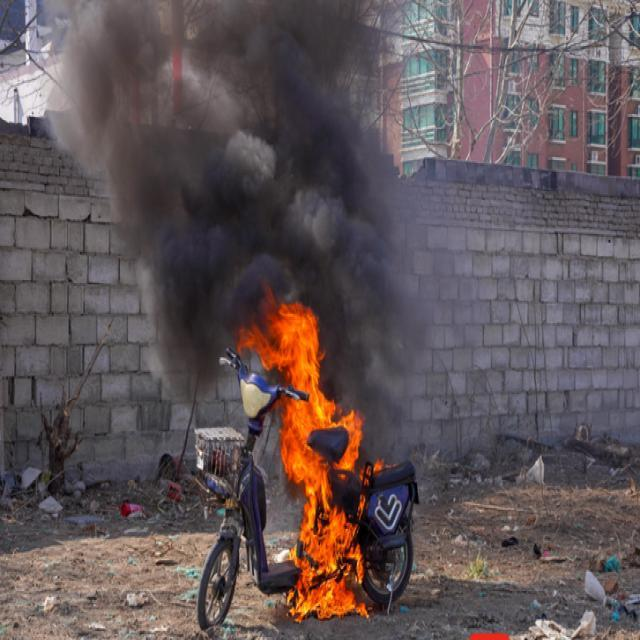Fire: (291, 488, 369, 624), (280, 361, 362, 486), (237, 288, 322, 362)
Smoke: (43, 0, 231, 397), (233, 0, 399, 286), (324, 288, 427, 359), (362, 356, 412, 463)
